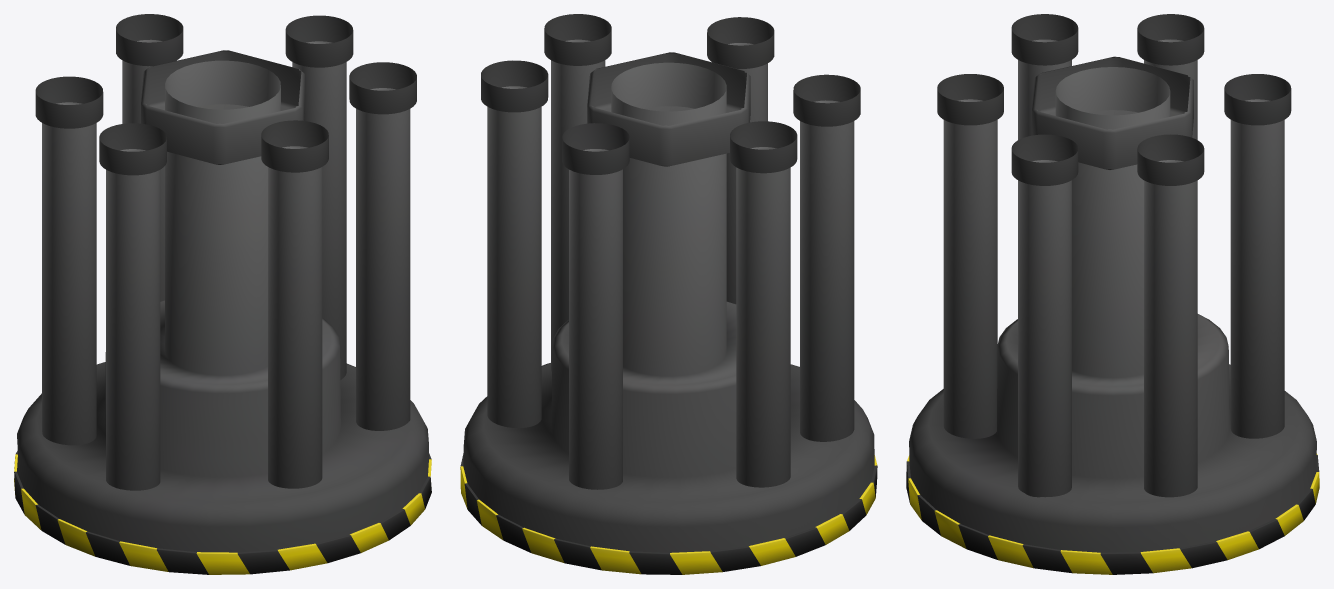
Rendered from HydraulicPress.fbx.
3 views of the same model, side by side, from view 1: azimuth 30°, elevation 25°; view 2: azimuth 150°, elevation 25°; view 3: azimuth 270°, elevation 25° (orthographic).
Visible parts, largest first — view 1: Cylinder.004; view 2: Cylinder.004; view 3: Cylinder.004.
Part boxes in pixels (x1=…): Cylinder.004: x1=14, y1=14, x2=431, y2=574; Cylinder.004: x1=460, y1=14, x2=877, y2=574; Cylinder.004: x1=906, y1=14, x2=1319, y2=574.
Bounding box in the file's own units: 662 × 708 × 662.
